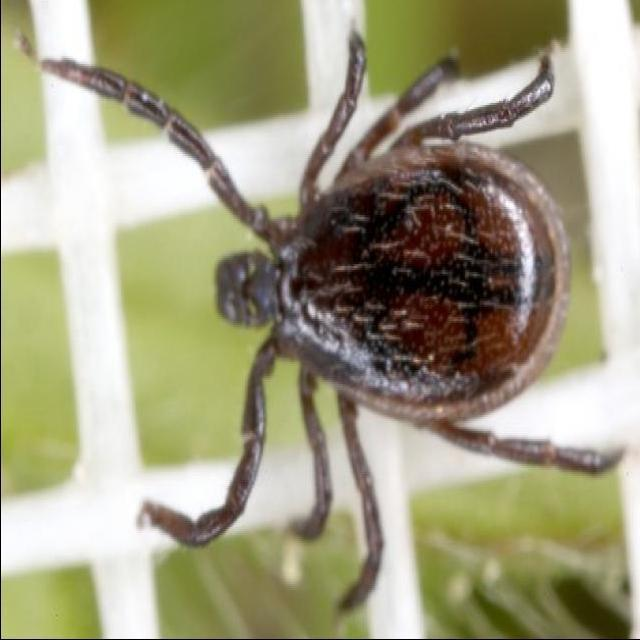Ixodes Ricinus-M: (31, 31, 622, 620)
